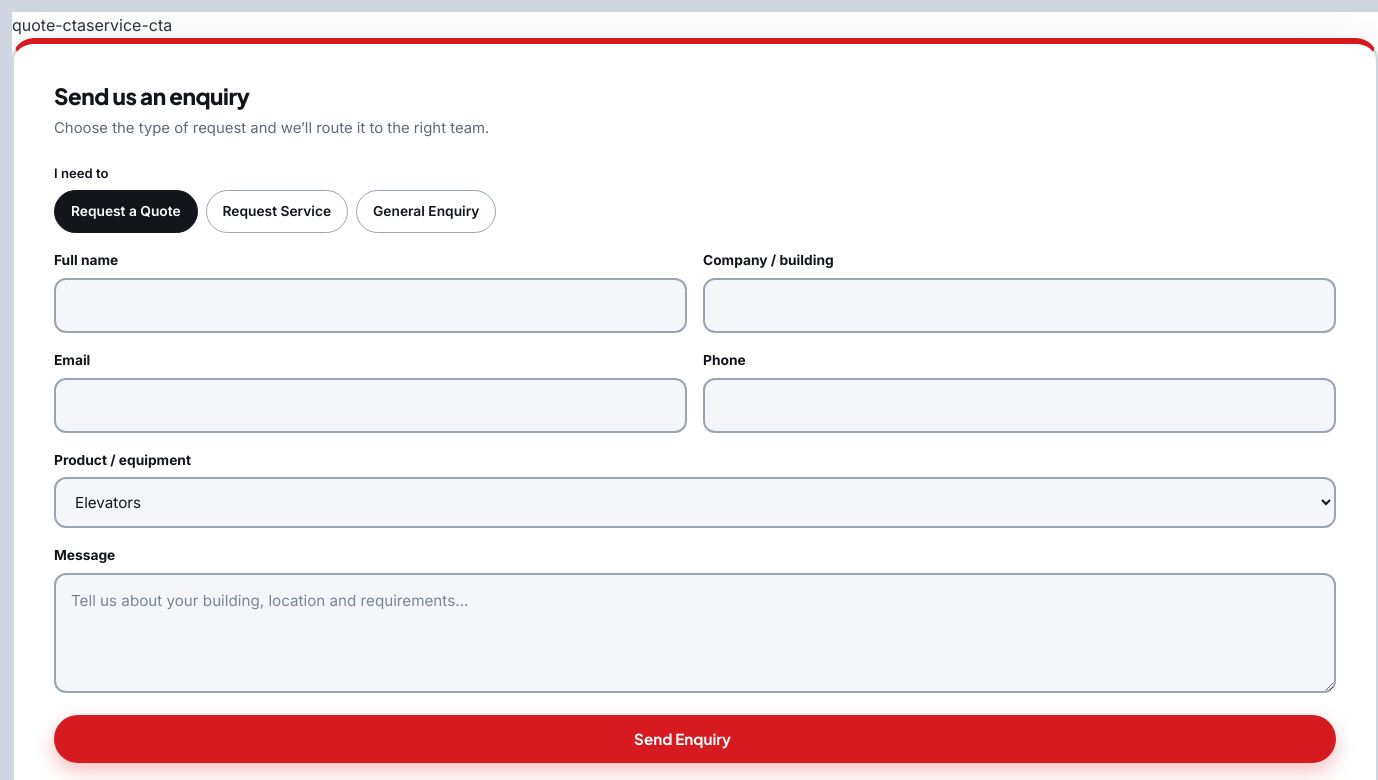
EnquiryForm › lets the visitor pick a type directly
Click the radio button labelled "General Enquiry" at (426, 212), box [356, 190, 496, 233]
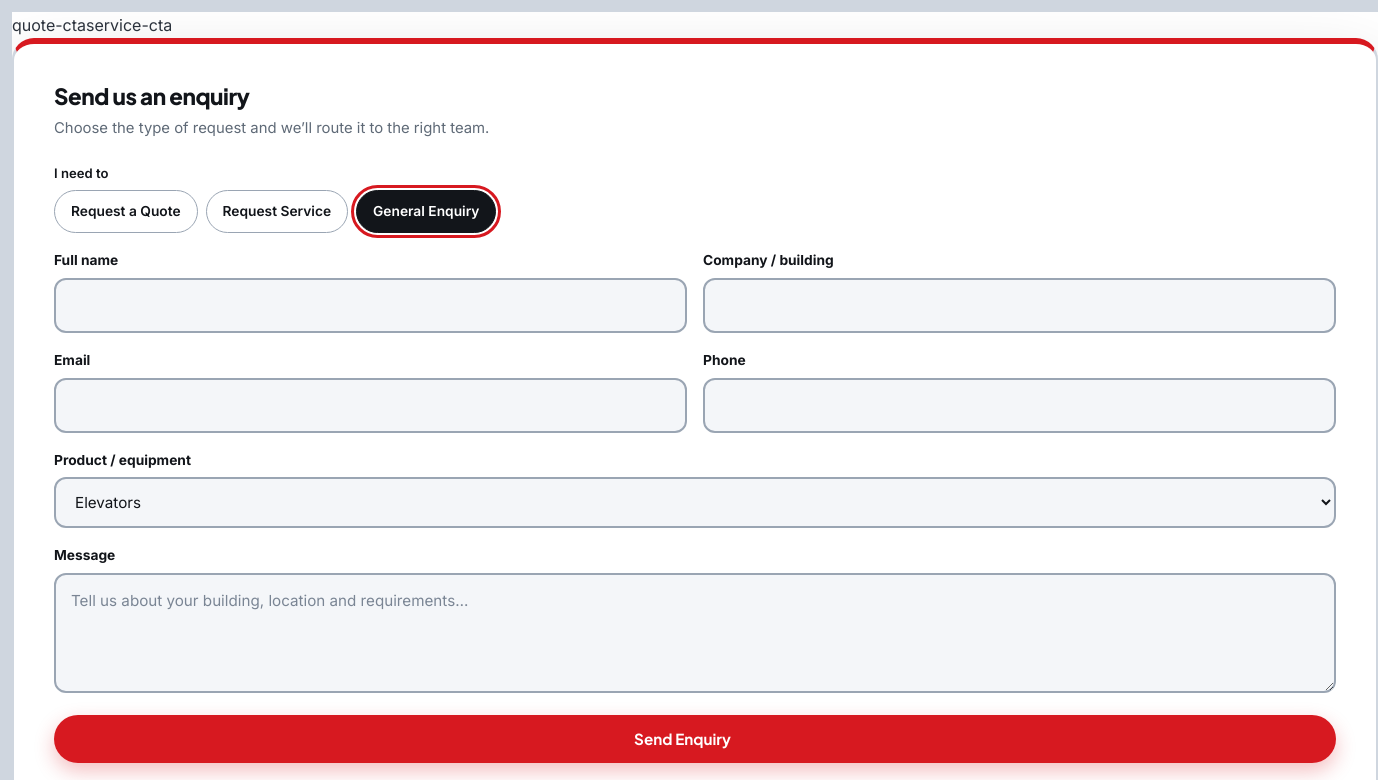
Result: the radio button labelled "General Enquiry" is checked at [356, 190, 496, 233]
Result: the radio button labelled "Request a Quote" is not checked at [54, 190, 198, 233]
